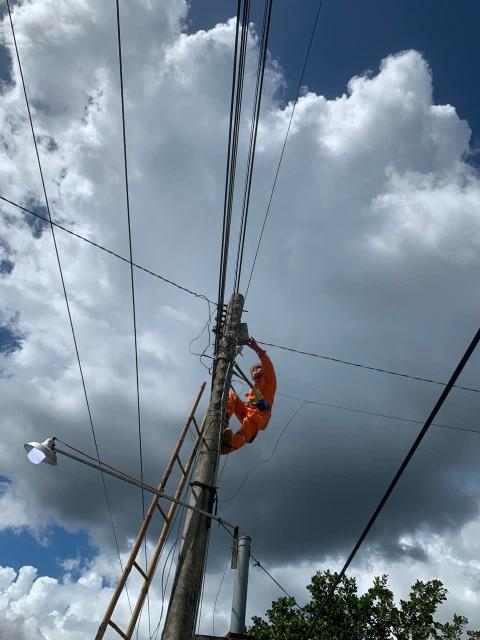gloves: (238, 335, 269, 360)
harness: (237, 390, 274, 414)
helmet: (239, 354, 273, 384)
shoes: (208, 422, 234, 457)
